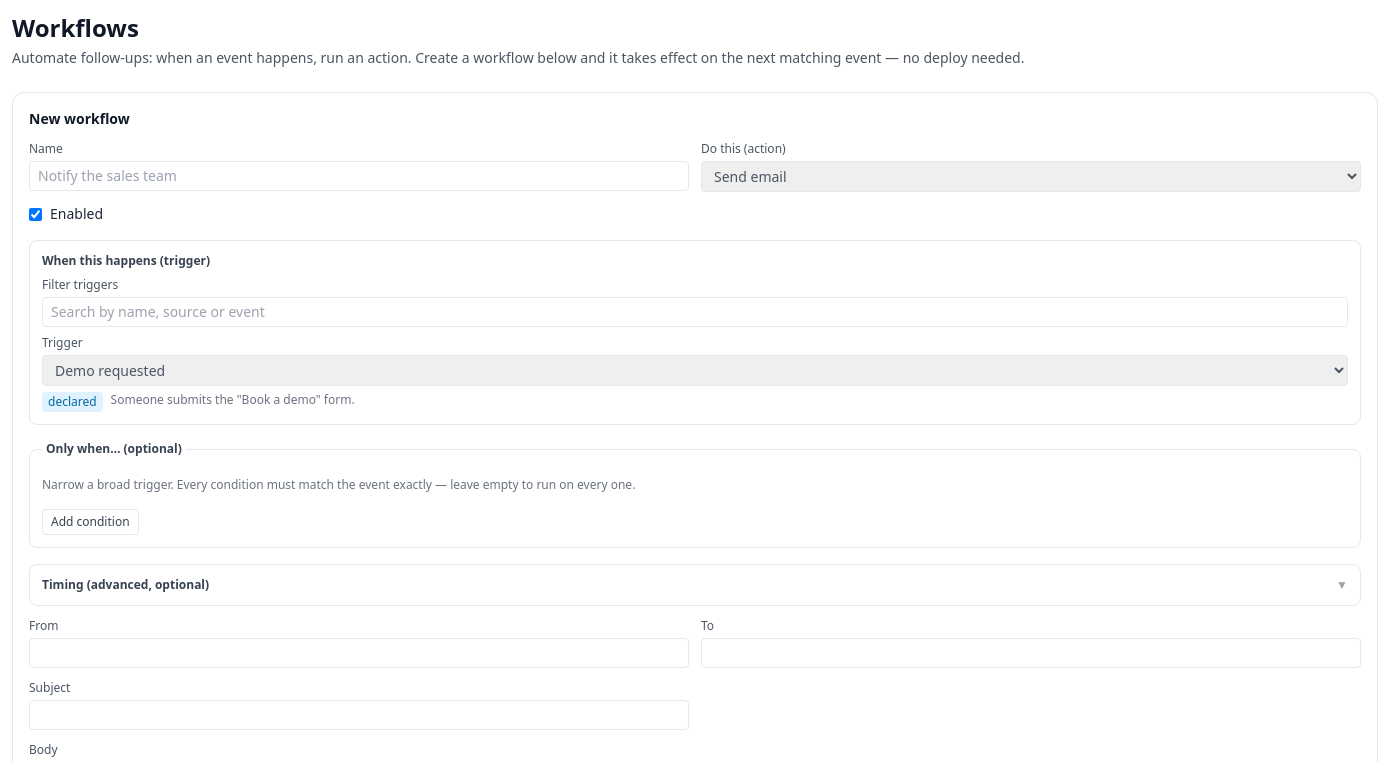
Test: OrchestrationPage › explains when the filter matches nothing
The width and height of the screenshot is (1378, 762).
Type "nothing-matches-this" into the search field labelled "Filter triggers" at (695,312), box left=42, top=297, right=1348, bottom=327
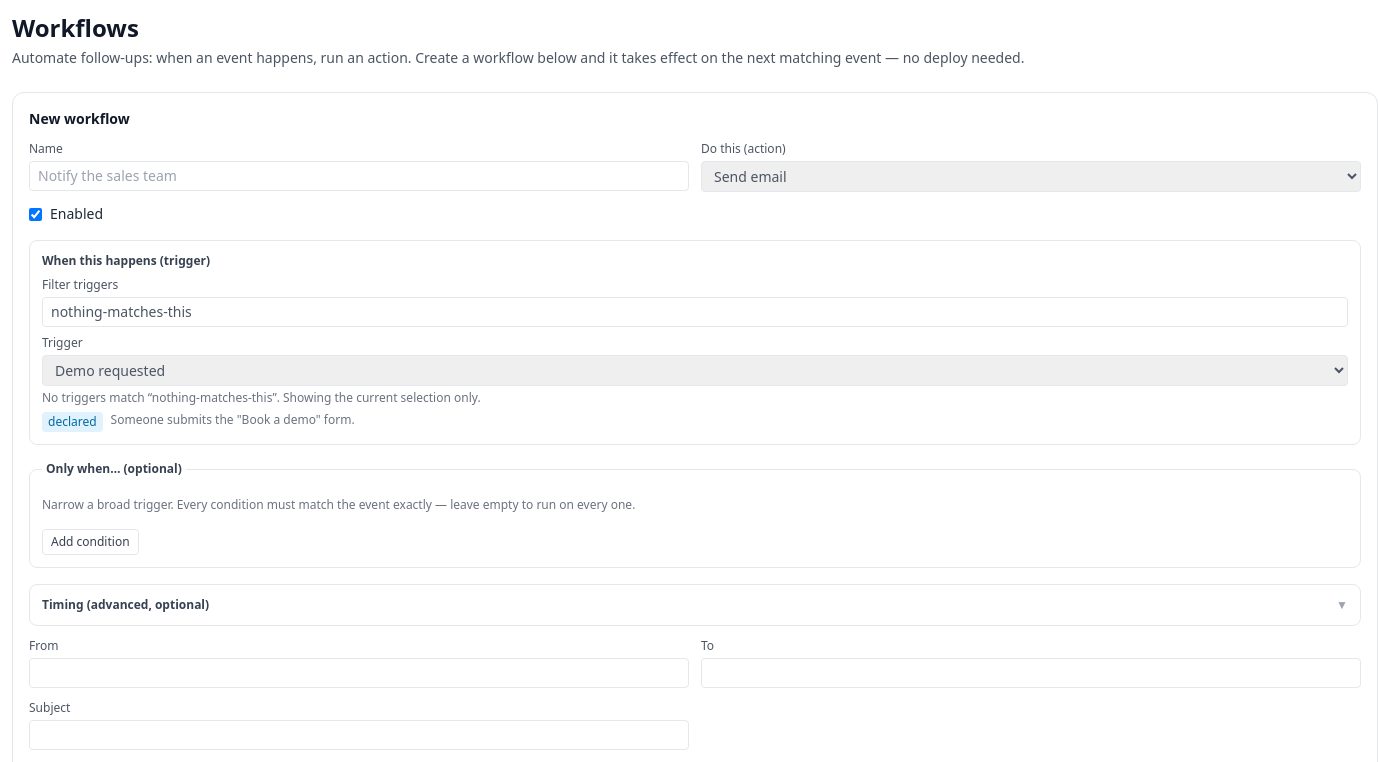
Now the text "No triggers match" is shown, box left=42, top=389, right=152, bottom=406
